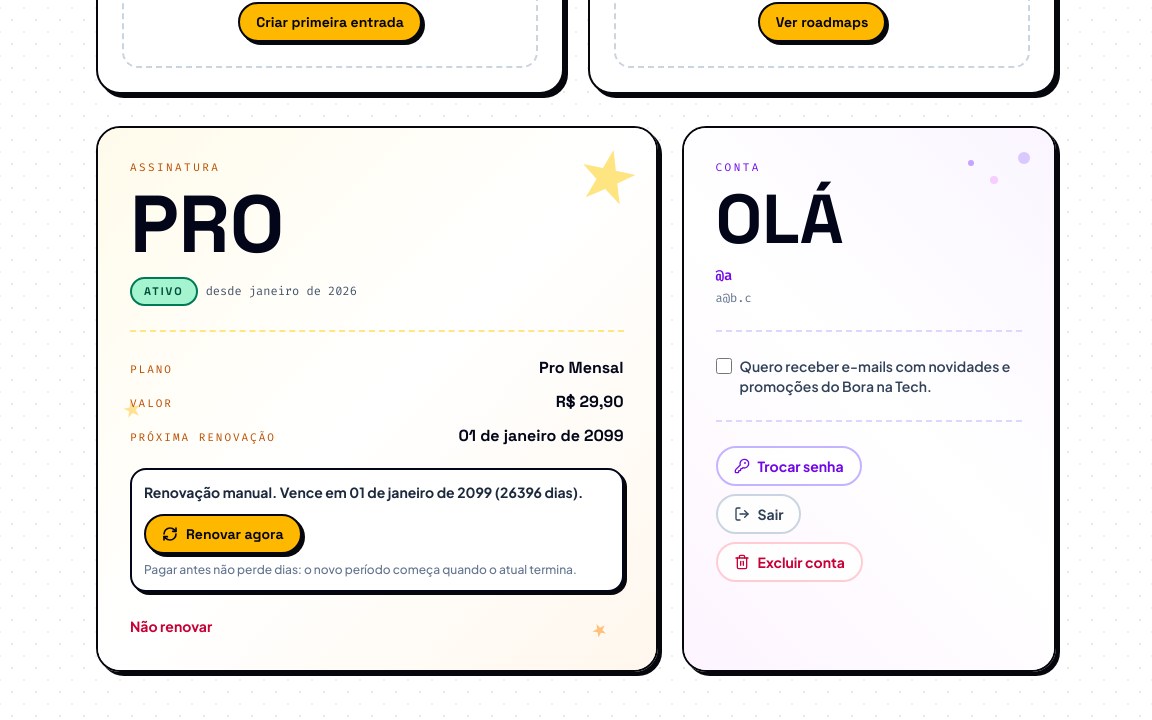
renovacao com Pix pendente › o 409 abre o dialogo em vez do aviso sem saida
This screenshot has width=1152, height=720.
(page scrolled)
Click the button "Renovar agora" at (223, 534), box [144,514,302,554]
(page scrolled)
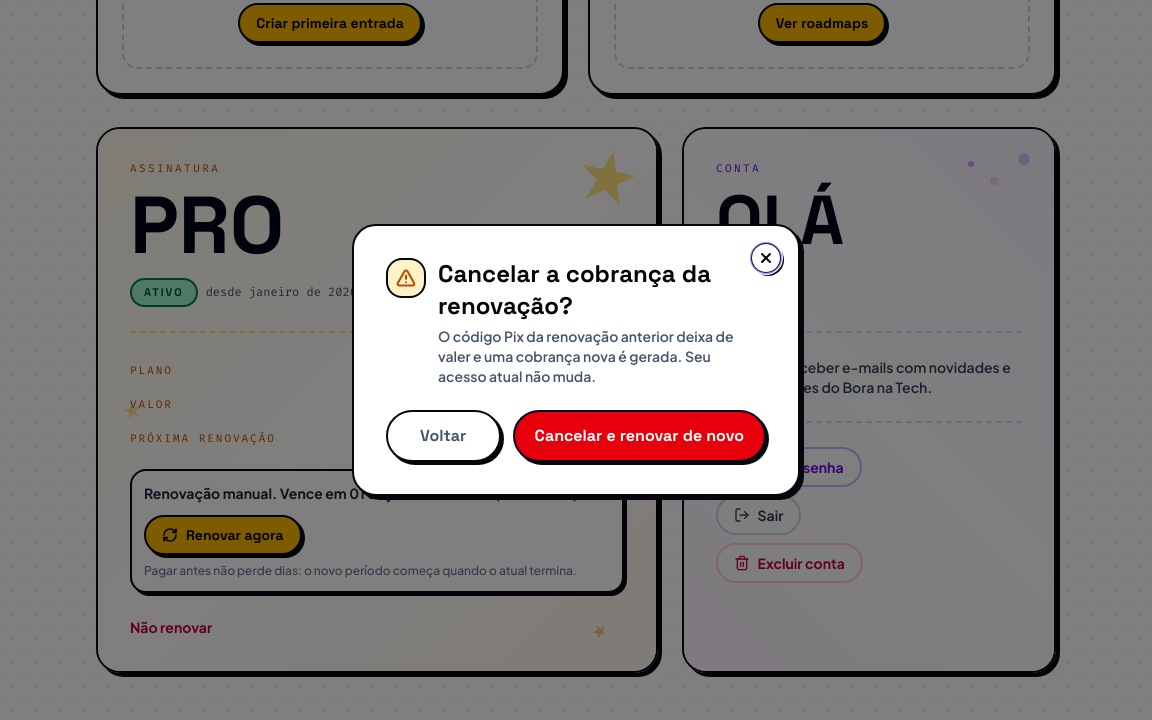
Check: the heading "Cancelar a cobrança da renovação?" is shown, box [438,258,734,322]
